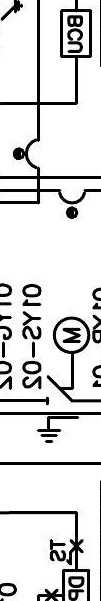115_3ways_ds_w_motor: (36, 316, 91, 444)
BCU: (59, 8, 93, 59)
